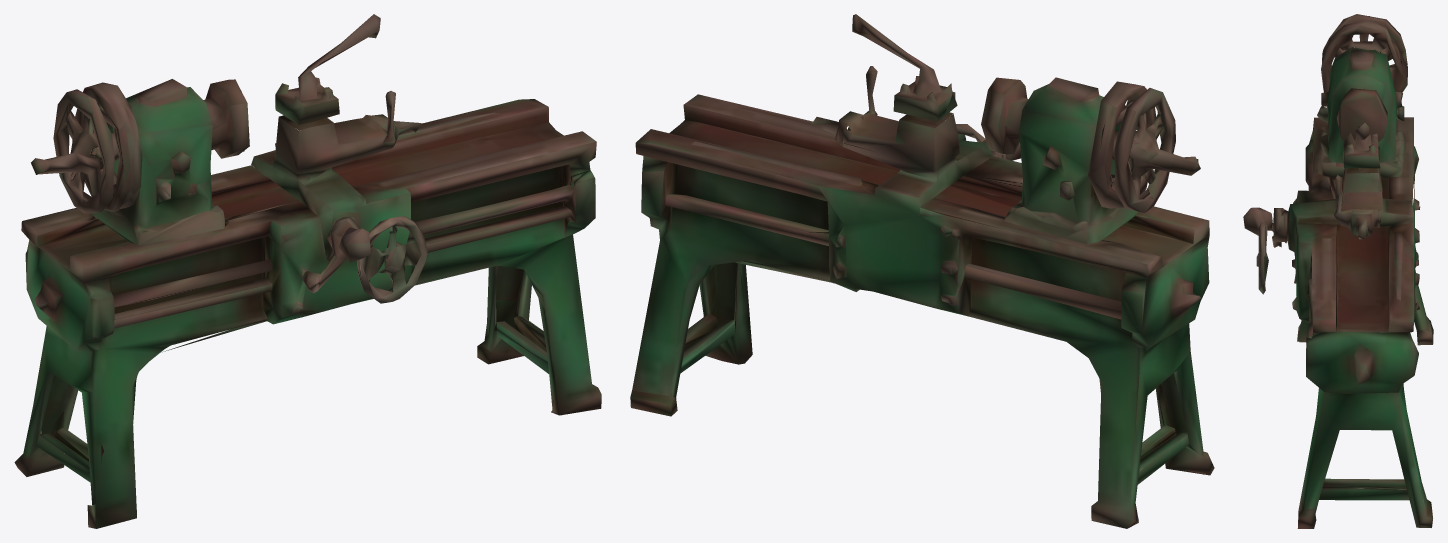
Rendered from torno.movil.glb.
3 renders of one model, left to right at view 1: azimuth 30°, elevation 25°; view 2: azimuth 150°, elevation 25°; view 3: azimuth 270°, elevation 25°, orthographic. The views are drawn at different scales.
Parts seen in each view (by area): view 1: geometry_0; view 2: geometry_0; view 3: geometry_0.
Boxes of the visible parts, box(x1,y1,x2,y2) form: geometry_0: box(14, 14, 601, 528); geometry_0: box(630, 14, 1214, 528); geometry_0: box(1243, 14, 1433, 528).
Bounding box in the file's own units: 1.6 × 1.15 × 0.5949.
Materials: 1 (1 with a texture image).
